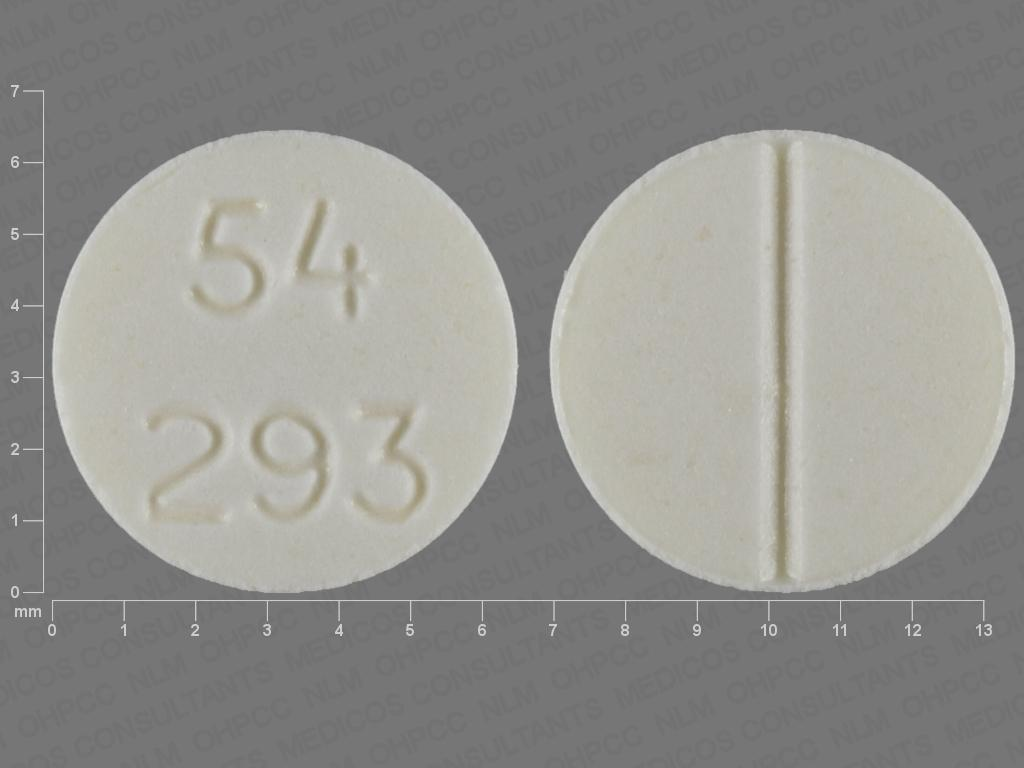Pill: (46, 120, 533, 599), (543, 117, 1024, 600)
